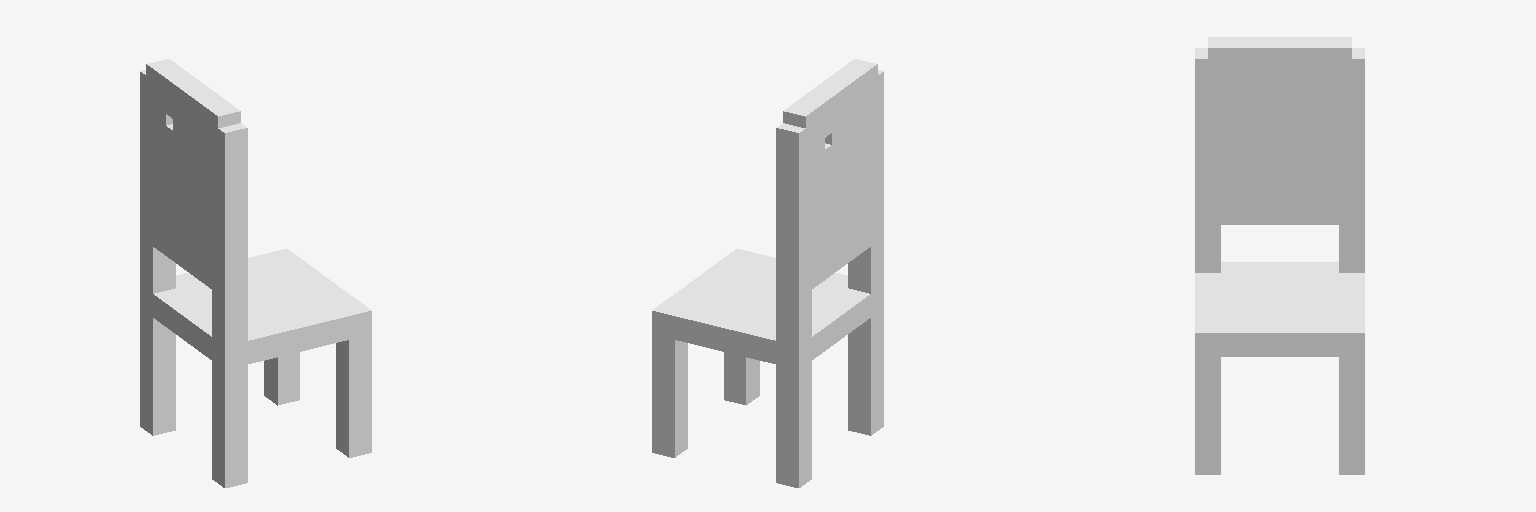
File: gameUpdate1-1.obj
3 views of the same model, side by side, from view 1: azimuth 30°, elevation 25°; view 2: azimuth 150°, elevation 25°; view 3: azimuth 270°, elevation 25° (orthographic).
Parts seen in each view (by area): view 1: object 1; view 2: object 1; view 3: object 1.
Part boxes in pixels (x1,y1,x2,y2): object 1: (140,59,371,487); object 1: (652,59,883,487); object 1: (1195,37,1364,474).
Bounding box in the file's own units: 1.3 × 3.1 × 1.3.